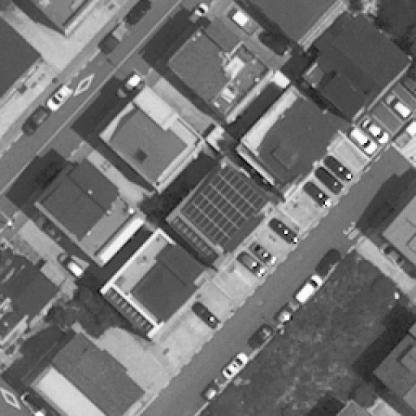solar-pv-panel: (182, 163, 267, 248)
